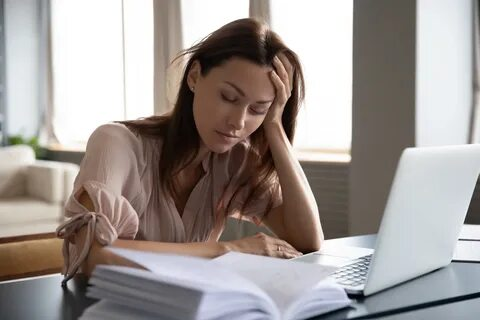sleep: (63, 15, 321, 283)
